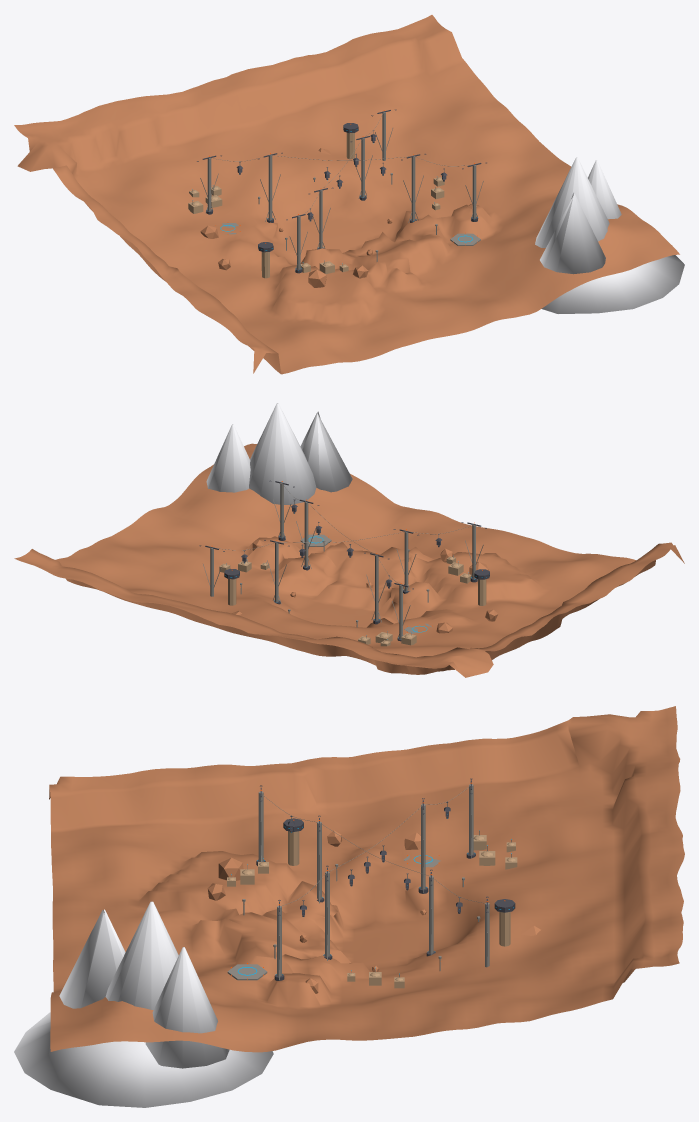
Rendered from mapa_m.glb.
3 views of the same model, one above another, from view 1: azimuth 30°, elevation 25°; view 2: azimuth 150°, elevation 25°; view 3: azimuth 270°, elevation 25° (orthographic). The views are drawn at different scales.
Visible parts, largest first — view 1: Illimani_Base; view 2: Illimani_Base, TwS_L1_T3.001; view 3: Illimani_Base, OPD_NE, OPB_SW.
Boxes of the visible parts, left/top/right/bottom form: Illimani_Base: left=14, top=15, right=684, bottom=374; Illimani_Base: left=14, top=403, right=684, bottom=677; TwS_L1_T3.001: left=293, top=499, right=319, bottom=570; Illimani_Base: left=14, top=706, right=684, bottom=1107; OPD_NE: left=494, top=899, right=515, bottom=946; OPB_SW: left=283, top=818, right=303, bottom=865.
Bounding box in the file's own units: 89.52 × 20.71 × 83.93.
